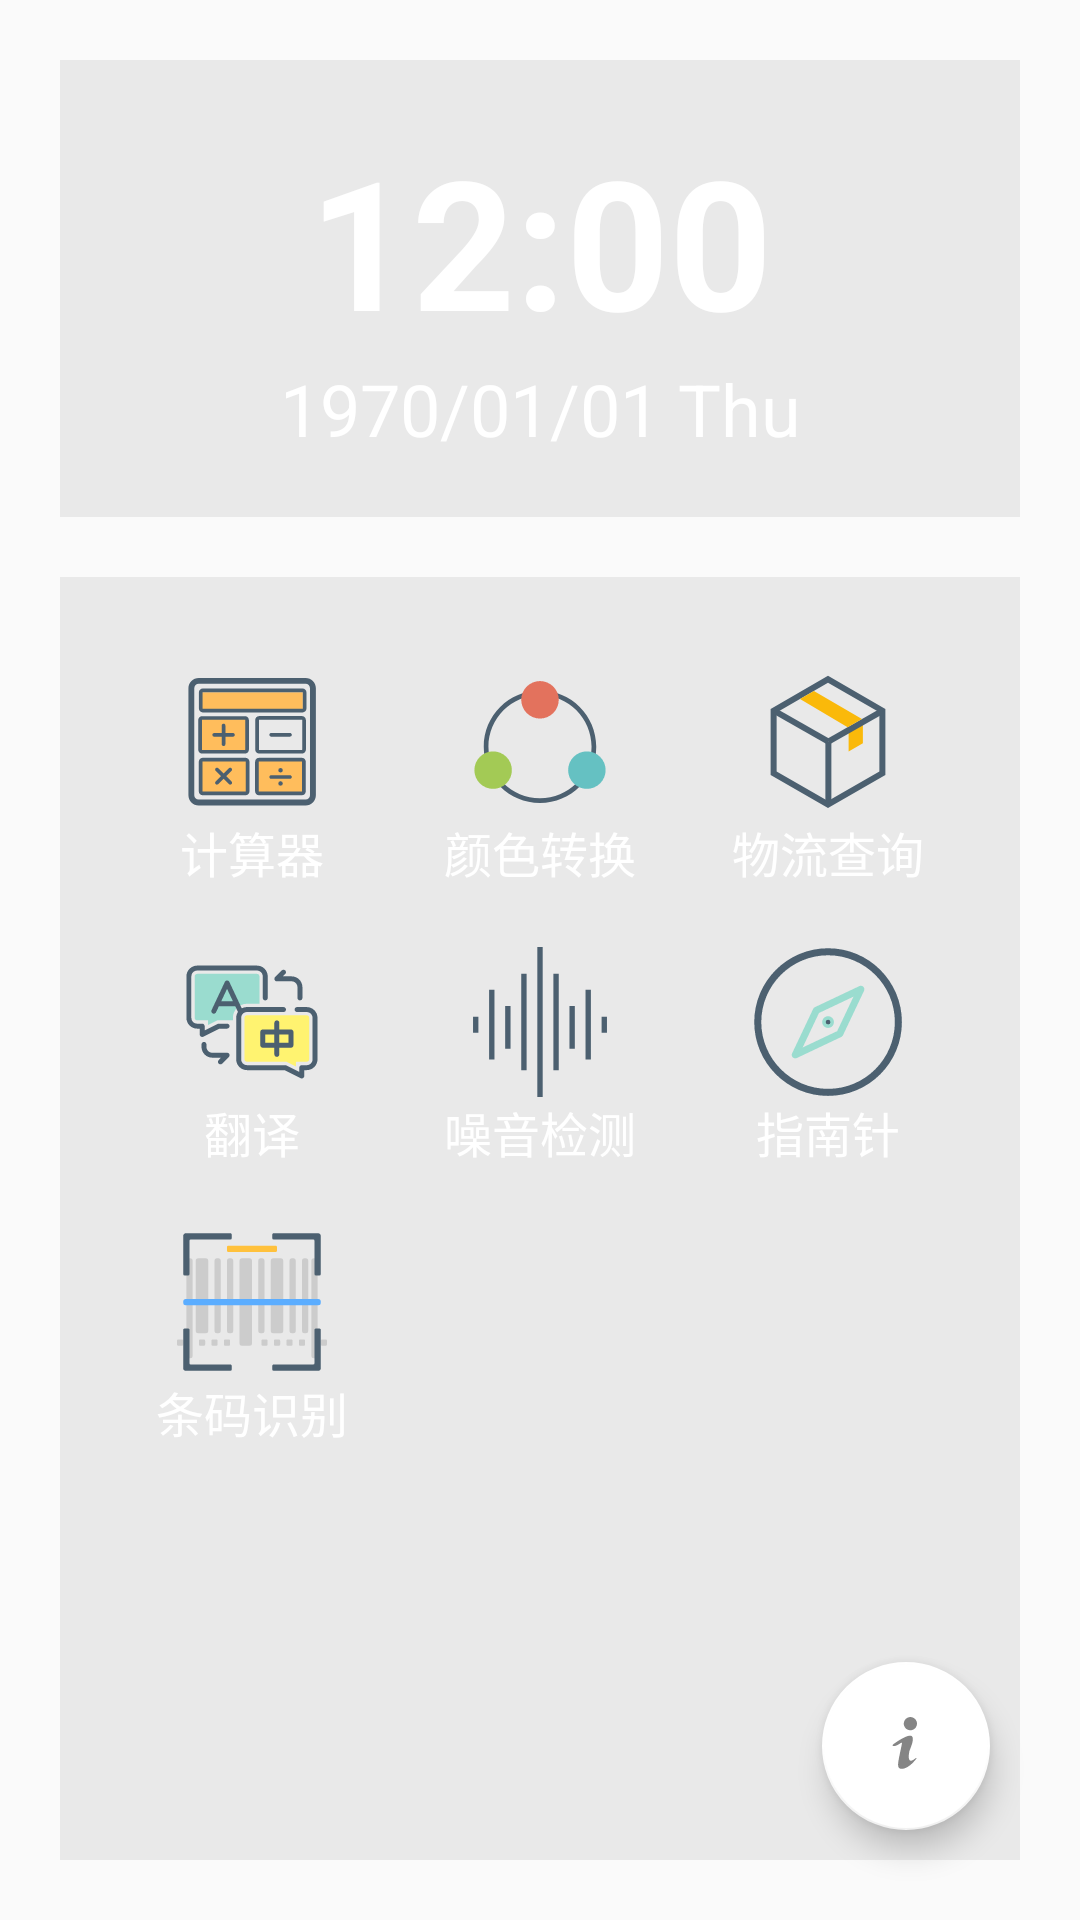

Where icons sit on this 1080 × 1920 app screen, as [x1, y1, x2, y2]:
about: [822, 1662, 990, 1830]
